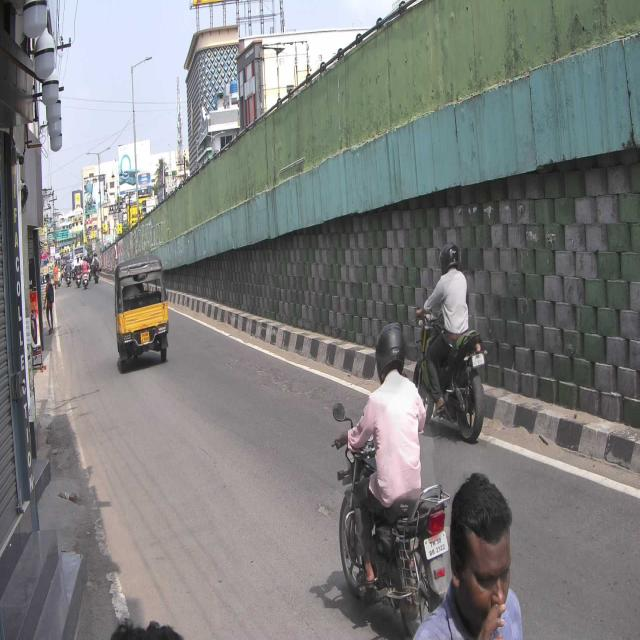single_rider: (332, 315, 450, 635)
